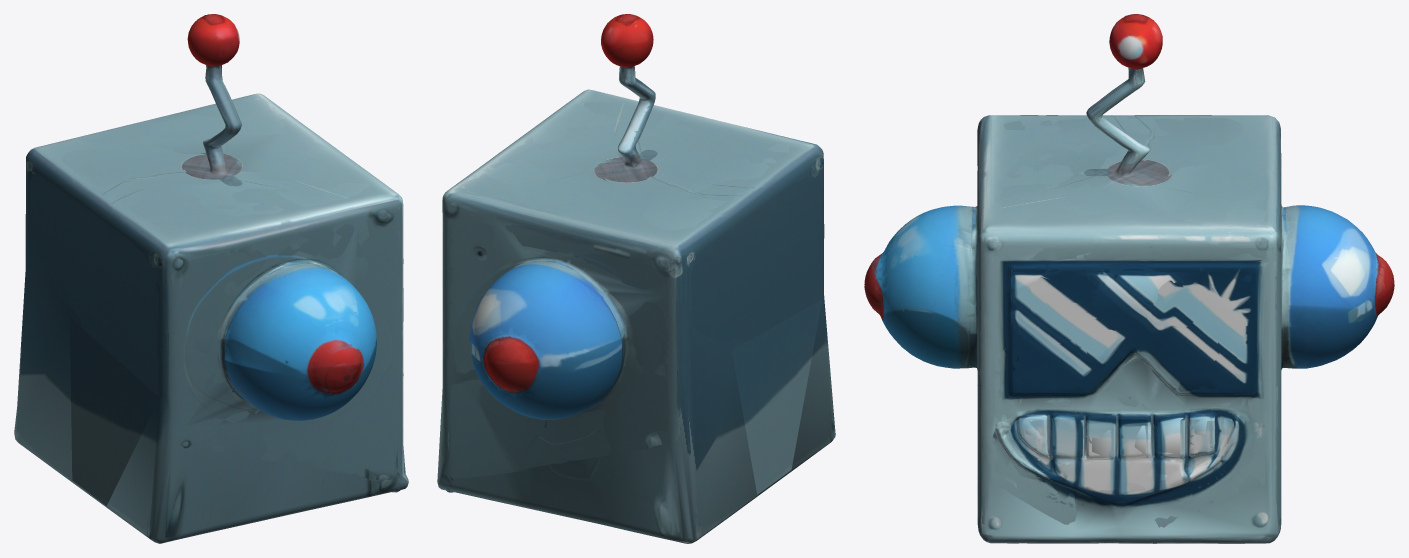
Rendered from smileyBot.glb.
The picture shows the model from 3 angles, left to right: view 1: azimuth 30°, elevation 25°; view 2: azimuth 150°, elevation 25°; view 3: azimuth 270°, elevation 25°; orthographic projection. The views are drawn at different scales.
Visible parts, largest first — view 1: Mesh_0.001, Mesh_0; view 2: Mesh_0.001, Mesh_0; view 3: Mesh_0.001, Mesh_0.
Part boxes in pixels (left/top/right/bottom): Mesh_0.001: left=25, top=14, right=403, bottom=492; Mesh_0: left=14, top=14, right=408, bottom=543; Mesh_0.001: left=442, top=14, right=823, bottom=492; Mesh_0: left=437, top=14, right=835, bottom=543; Mesh_0.001: left=864, top=14, right=1394, bottom=527; Mesh_0: left=864, top=14, right=1394, bottom=543.
Size of the model in its own units: 1.17 by 1.95 by 2.
2 materials, 2 textured.
